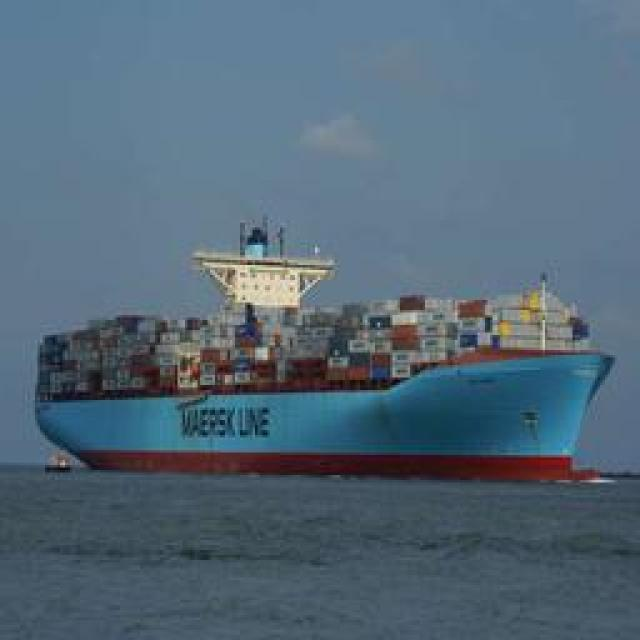CIV_Ship: (30, 211, 615, 474)
